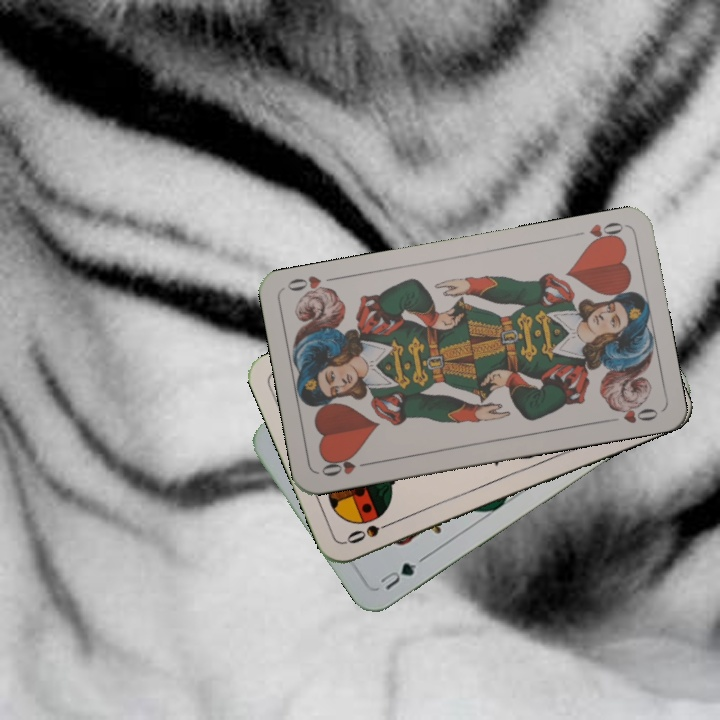GU: (376, 558, 420, 593)
HO: (568, 218, 626, 248), (317, 452, 375, 479)
SO: (342, 516, 399, 546)
